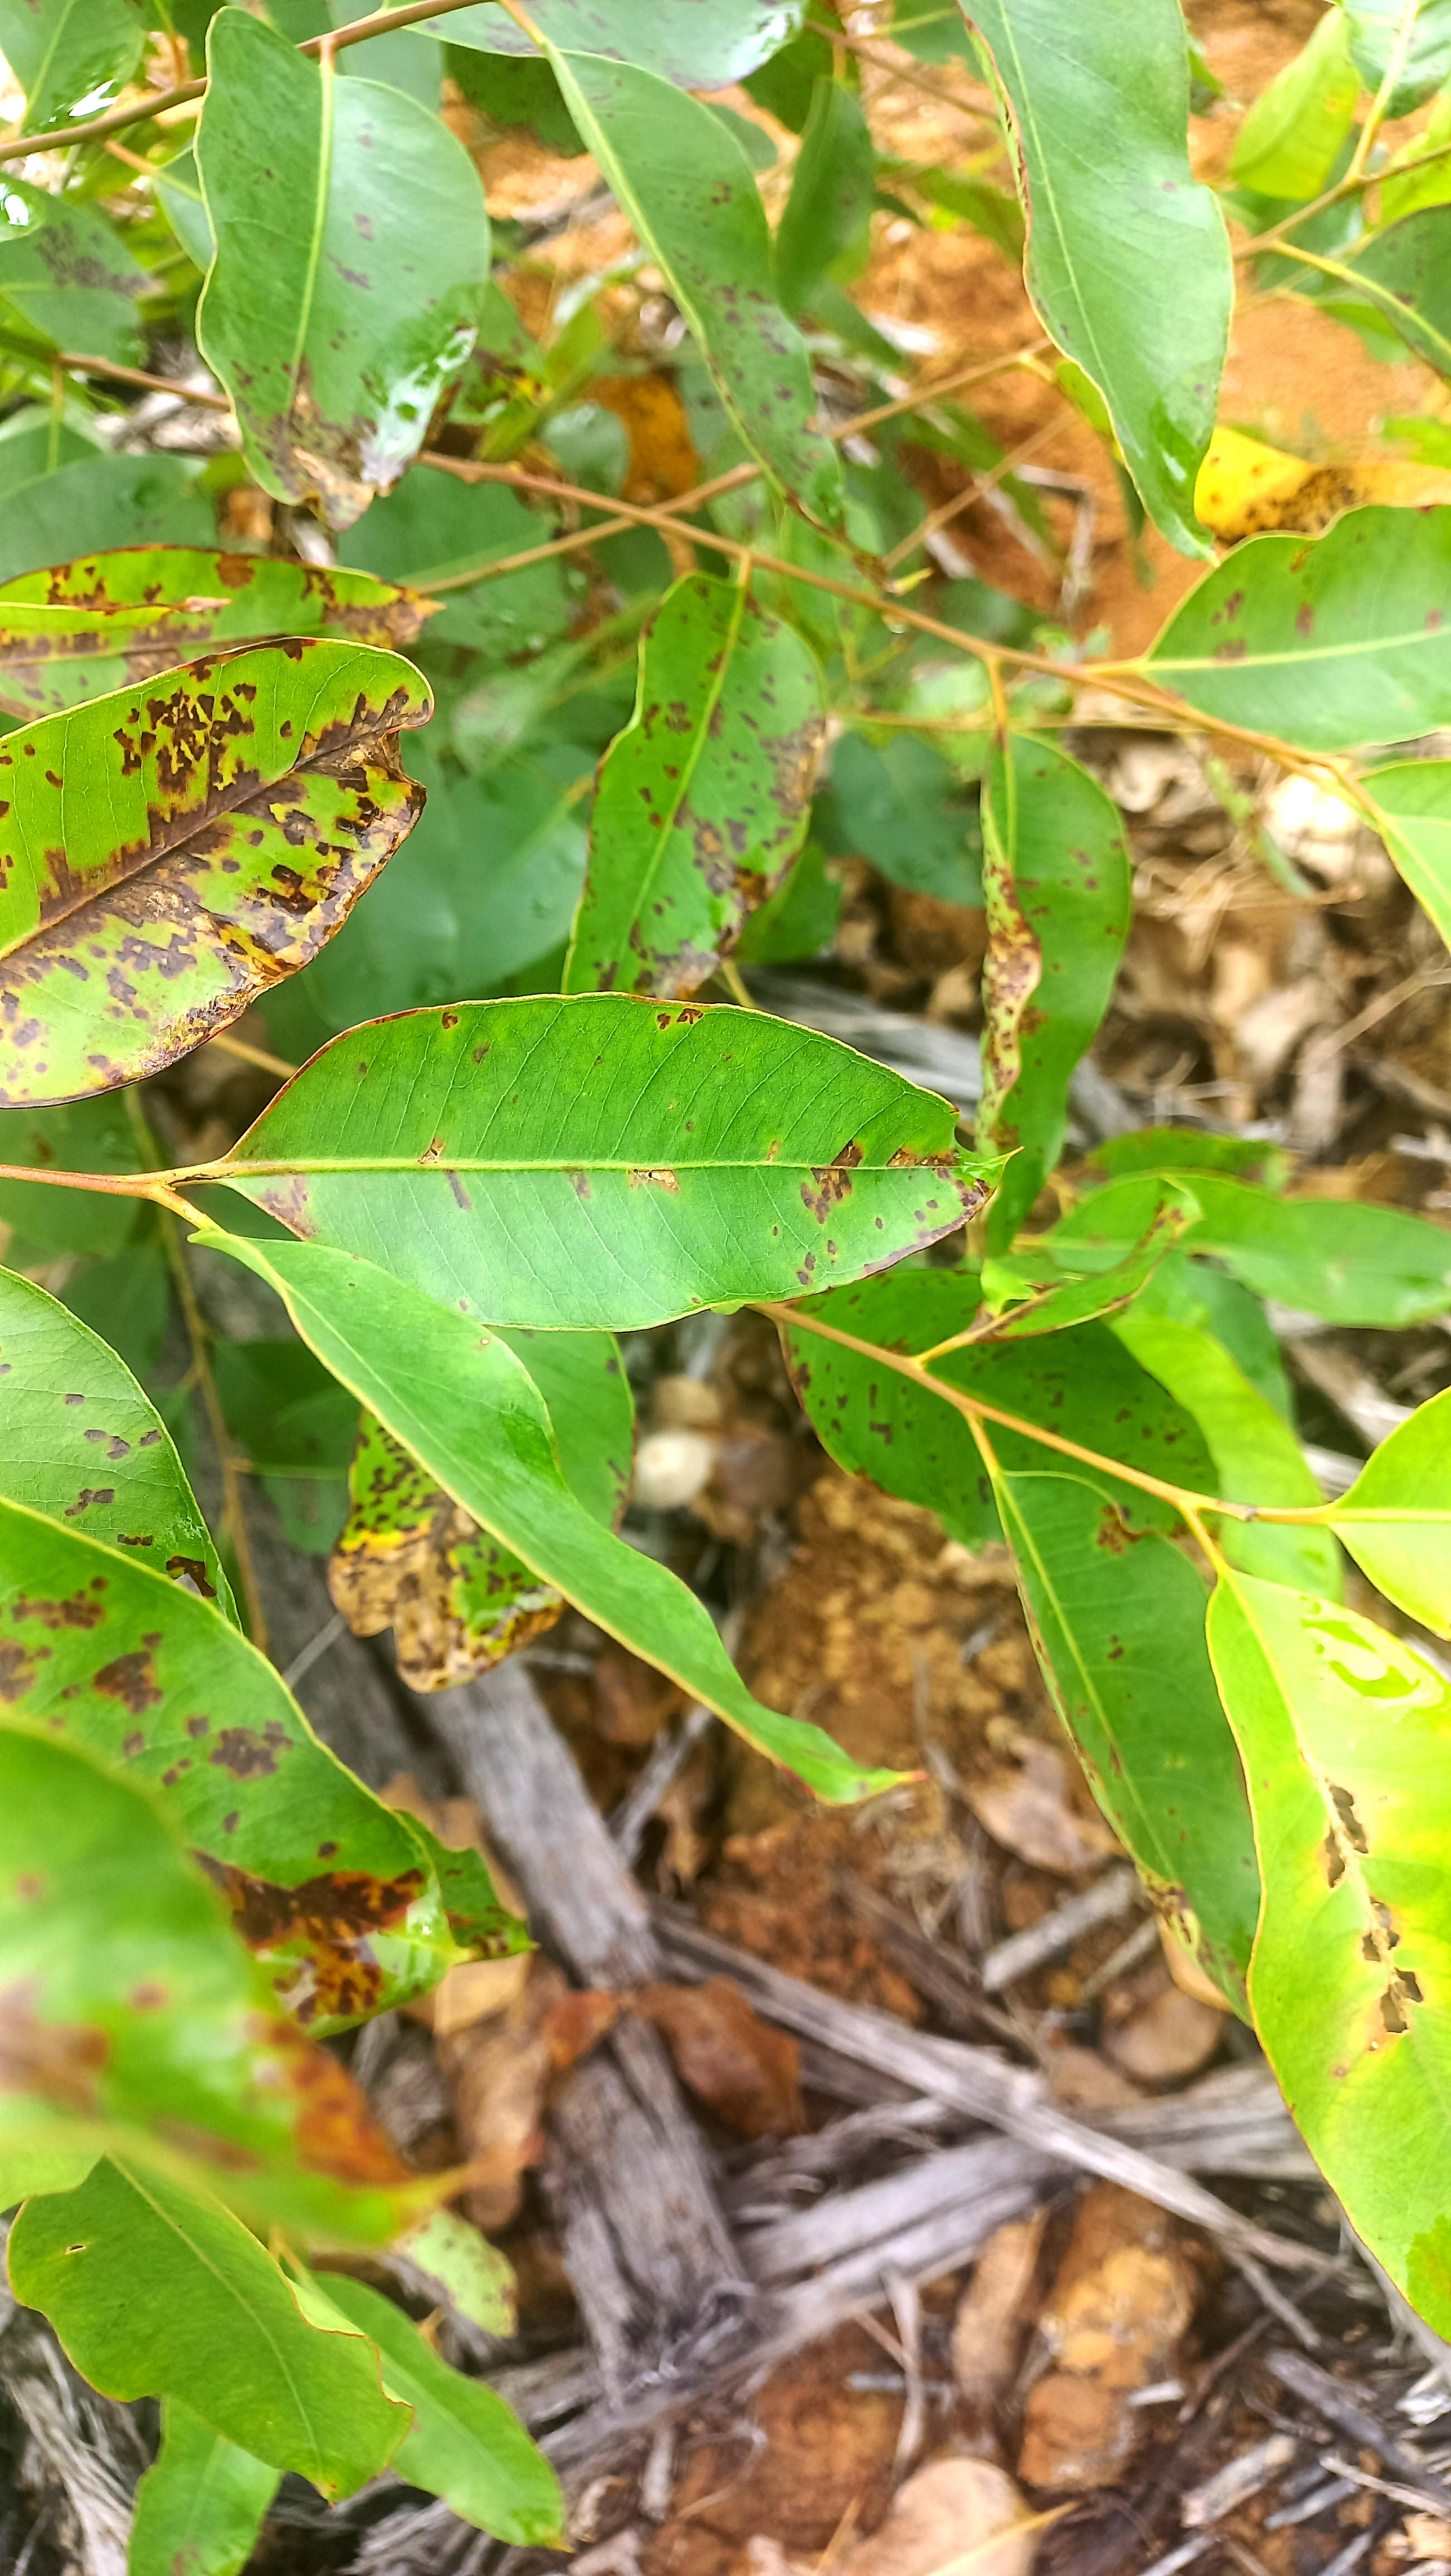Xanthomonas: (0, 1734, 469, 2259), (246, 1003, 1014, 1323), (7, 541, 434, 1100), (1205, 1560, 1451, 2374), (196, 2, 501, 545), (570, 552, 853, 989), (0, 1261, 264, 1633), (977, 720, 1129, 1238), (327, 1422, 580, 1706), (1177, 407, 1340, 536)
